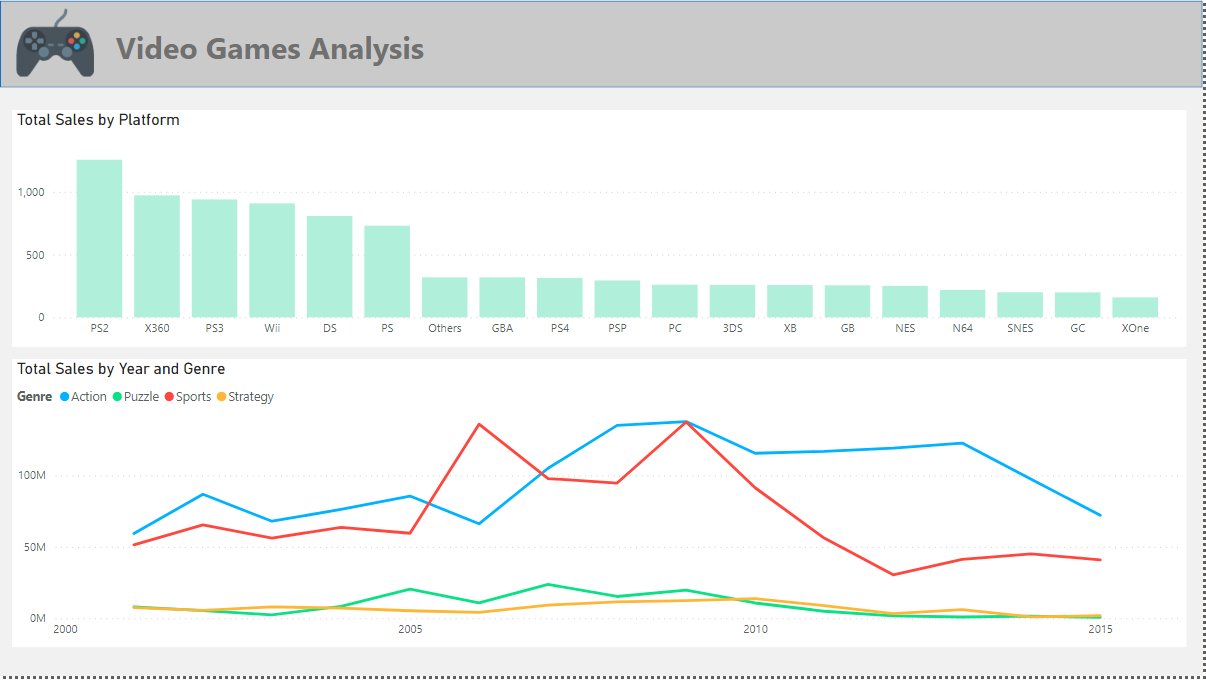

This screenshot's page, from the dashboard's own definition file:
{"tool":"powerbi","page":{"name":"Report 2","canvas":[1280,720],"ordinal":1},"visuals":[{"type":"image","box":[0,0,117.6,92.9],"z":0},{"type":"textbox","box":[117.6,24.7,369.8,68.3],"z":1},{"type":"shape","box":[0,1.6,1280,92.6],"z":2},{"type":"clusteredColumnChart","title":"Total Sales by Platform","fields":{"Y":["Sum(Sales_and_Ratings.Global_Sales)"],"Category":["Sales_and_Ratings.Platform (groups)"]},"box":[13.3,117.4,1249.7,251.8],"z":3},{"type":"lineChart","title":"Total Sales by Year and Genre","fields":{"Y":["Sum(Sales_and_Ratings.Global Sales)"],"Category":["Sales_and_Ratings.Year_of_Release"],"Series":["Sales_and_Ratings.Genre"]},"box":[13.3,382.5,1249.7,306.7],"z":4}]}

Visuals, with their boxes in screenshot pixels (x1, y1, x2, y2), scaled from the page's 1280x720 canvas onto the 1206x680 screenshot:
image: [0, 0, 111, 88]
textbox: [111, 23, 459, 88]
shape: [0, 2, 1205, 89]
"Total Sales by Platform" clusteredColumnChart: [13, 111, 1190, 349]
"Total Sales by Year and Genre" lineChart: [13, 361, 1190, 651]
